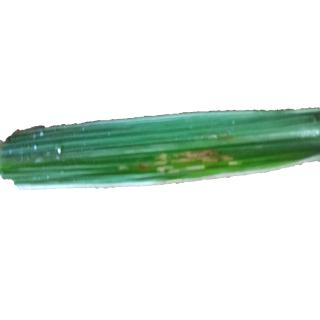Hawar-Daun: (191, 132, 235, 166), (151, 149, 173, 172), (137, 143, 148, 182), (118, 156, 138, 176)
